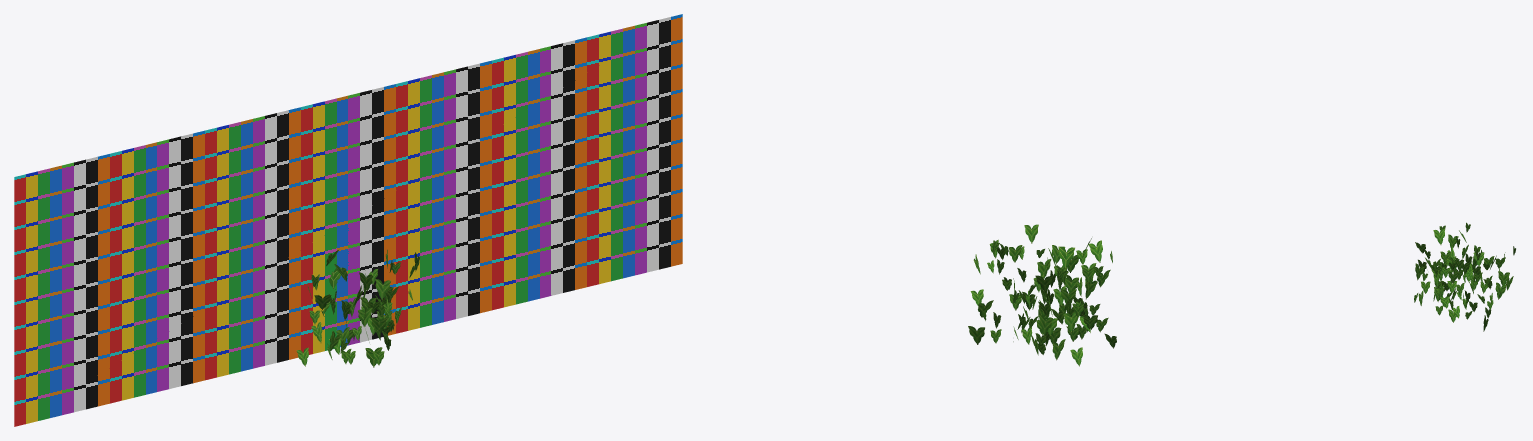
The model's file is temporal_foliage.gltf.
3 renders of one model, left to right at view 1: azimuth 30°, elevation 25°; view 2: azimuth 150°, elevation 25°; view 3: azimuth 270°, elevation 25°, orthographic. The views are drawn at different scales.
Parts seen in each view (by area): view 1: backdrop_wall, foliage_a, foliage_b; view 2: foliage_a, foliage_b; view 3: foliage_a, foliage_b.
Boxes of the visible parts, bbox=[...] form: backdrop_wall: bbox=[14, 14, 682, 426]; foliage_a: bbox=[296, 249, 419, 367]; foliage_b: bbox=[309, 287, 393, 363]; foliage_a: bbox=[968, 224, 1116, 366]; foliage_b: bbox=[1013, 265, 1090, 345]; foliage_a: bbox=[1414, 222, 1515, 331]; foliage_b: bbox=[1431, 252, 1493, 319].
Size of what is drawn, in the model's own units: 14 by 5.11 by 2.8.
Materials: 2 (2 with a texture image).
